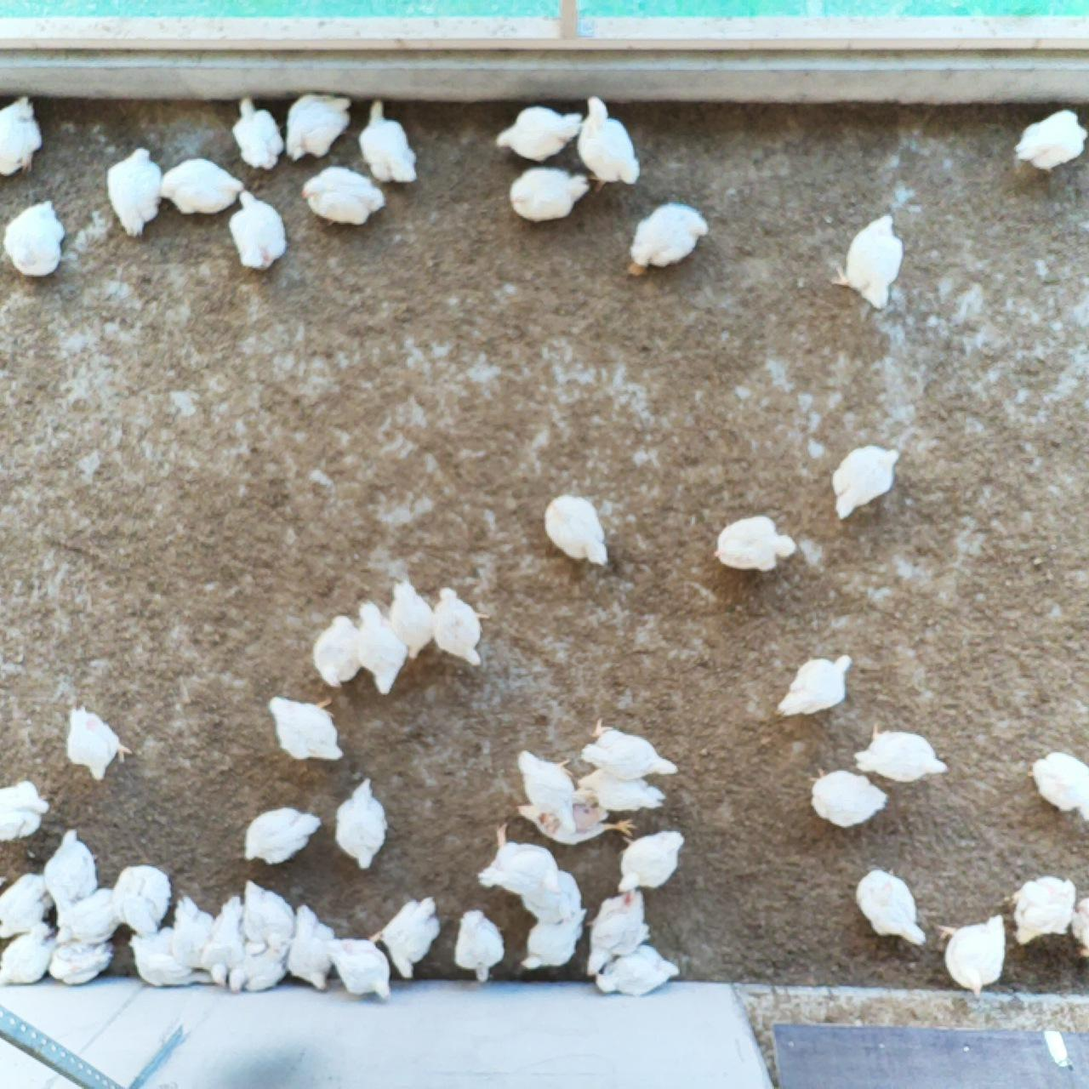chicken: (827, 210, 907, 313), (513, 789, 639, 848), (474, 819, 564, 899), (931, 912, 1008, 1001), (576, 92, 643, 194), (579, 714, 681, 781), (366, 894, 443, 982), (628, 199, 711, 280), (849, 866, 928, 950), (829, 442, 907, 526), (583, 885, 652, 979), (772, 650, 855, 727), (103, 143, 167, 240), (61, 700, 133, 786), (853, 723, 952, 785), (43, 825, 101, 929), (298, 164, 389, 229), (516, 746, 580, 838), (263, 692, 346, 762), (492, 102, 584, 165), (319, 929, 397, 1003), (352, 597, 409, 698), (333, 774, 391, 873), (1009, 107, 1089, 178), (804, 765, 889, 831), (157, 154, 246, 217), (711, 512, 797, 577), (0, 198, 69, 279), (358, 98, 422, 185), (225, 189, 290, 274), (282, 88, 355, 163), (1006, 873, 1078, 949), (542, 491, 611, 570), (430, 584, 494, 669), (123, 929, 216, 987), (612, 827, 688, 897), (241, 804, 324, 868), (505, 166, 593, 224), (593, 943, 683, 999), (1024, 748, 1089, 825), (520, 906, 589, 975), (110, 862, 175, 935), (284, 902, 336, 993), (451, 906, 510, 986), (575, 765, 669, 814), (229, 94, 287, 172), (240, 878, 297, 956), (200, 892, 245, 990), (311, 611, 365, 690), (53, 886, 123, 946), (0, 92, 45, 181), (387, 579, 435, 662), (0, 870, 55, 939), (520, 868, 586, 924), (167, 894, 217, 967), (0, 923, 56, 987), (227, 941, 292, 996), (48, 936, 115, 987), (0, 779, 51, 846), (1069, 894, 1089, 960)
